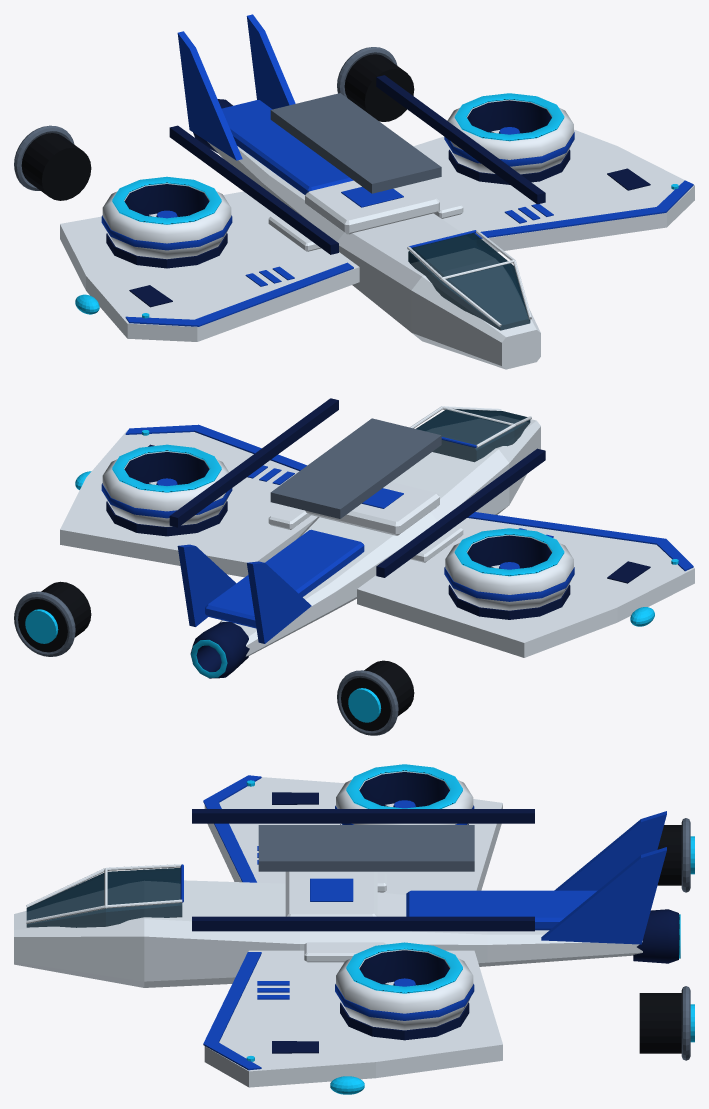
File: nave_astra_detallada.obj
3 renders of one model, top to bottom at view 1: azimuth 30°, elevation 25°; view 2: azimuth 150°, elevation 25°; view 3: azimuth 270°, elevation 25°, orthographic. The views are drawn at different scales.
Parts seen in each view (by area): view 1: Nave_Astra, Astra_Dorsal_Armor, Astra_Engine_L, Astra_Wing_Rail_R, Astra_Wing_Rail_L, Astra_Engine_R, Astra_Engine_Guard_L, Astra_Engine_Guard_R; view 2: Nave_Astra, Astra_Dorsal_Armor, Astra_Wing_Rail_R, Astra_Wing_Rail_L, Astra_Engine_L, Astra_Engine_R, Astra_Engine_Guard_R, Astra_Engine_Guard_L, Astra_Engine_Core_R, Astra_Engine_Core_L; view 3: Nave_Astra, Astra_Dorsal_Armor, Astra_Wing_Rail_R, Astra_Wing_Rail_L, Astra_Engine_R, Astra_Engine_L, Astra_Engine_Guard_L, Astra_Engine_Guard_R, Astra_Wingtip_R.
Boxes of the visible parts, box(x1,y1,x2,y2) form: Nave_Astra: box(60, 14, 694, 369); Astra_Dorsal_Armor: box(270, 93, 441, 193); Astra_Engine_L: box(21, 133, 91, 200); Astra_Wing_Rail_R: box(376, 75, 545, 204); Astra_Wing_Rail_L: box(169, 125, 338, 254); Astra_Engine_R: box(344, 54, 414, 121); Astra_Engine_Guard_L: box(14, 125, 74, 190); Astra_Engine_Guard_R: box(337, 47, 397, 97); Nave_Astra: box(60, 406, 694, 678); Astra_Dorsal_Armor: box(270, 418, 441, 518); Astra_Wing_Rail_R: box(169, 398, 338, 527); Astra_Wing_Rail_L: box(376, 448, 545, 577); Astra_Engine_L: box(341, 660, 414, 730); Astra_Engine_R: box(18, 581, 91, 652); Astra_Engine_Guard_R: box(14, 591, 75, 656); Astra_Engine_Guard_L: box(337, 670, 398, 735); Astra_Engine_Core_R: box(25, 609, 58, 643); Astra_Engine_Core_L: box(348, 688, 381, 722); Nave_Astra: box(14, 764, 680, 1087); Astra_Dorsal_Armor: box(258, 825, 474, 871); Astra_Wing_Rail_R: box(192, 916, 534, 931); Astra_Wing_Rail_L: box(192, 809, 534, 823); Astra_Engine_R: box(639, 993, 681, 1053); Astra_Engine_L: box(657, 825, 681, 885); Astra_Engine_Guard_L: box(681, 818, 690, 892); Astra_Engine_Guard_R: box(681, 986, 690, 1060); Astra_Wingtip_R: box(330, 1076, 364, 1094).
Bounding box in the file's own units: 11.11 × 2.48 × 10.72.
